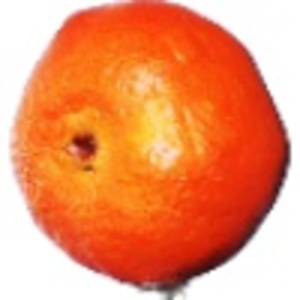tangerina: (3, 1, 292, 300)
